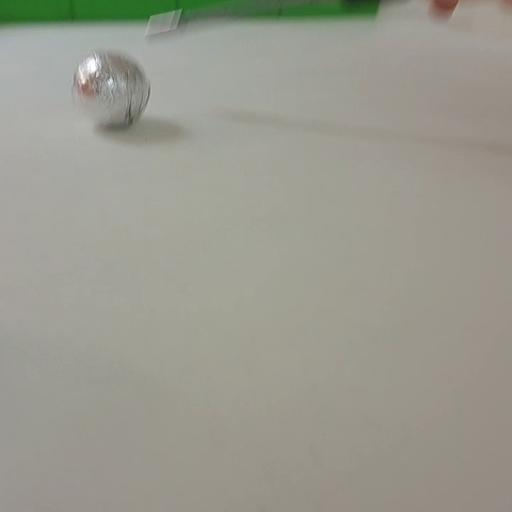alive: (70, 50, 152, 130)
